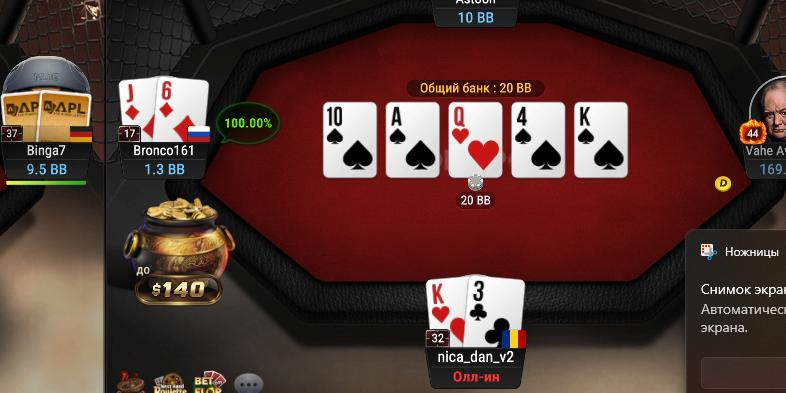10s: (323, 103, 376, 176)
3c: (467, 273, 526, 352)
4s: (512, 103, 565, 176)
6d: (156, 74, 209, 144)
As: (387, 103, 438, 177)
Jd: (119, 79, 156, 141)
Kh: (424, 275, 467, 349)
Ks: (574, 102, 628, 178)
Qh: (450, 103, 502, 177)
